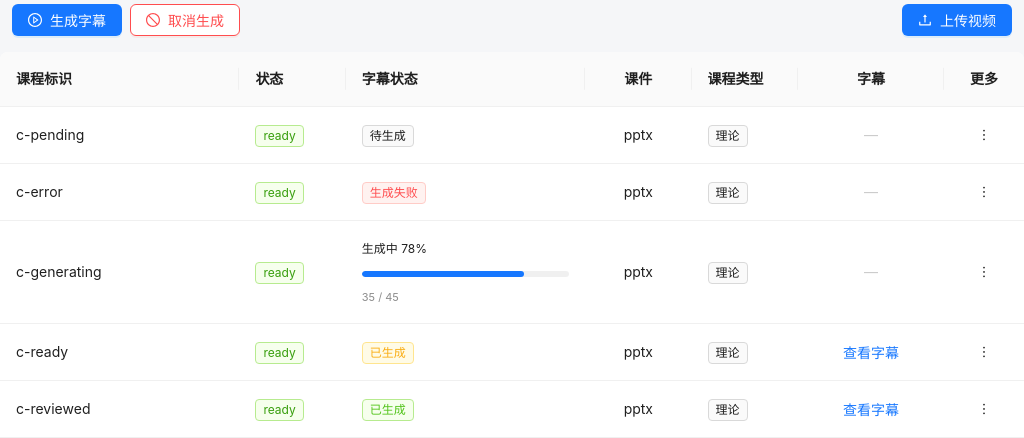
Test: 专栏视频批量操作（PRD v8 §5.5A.5） › 退出选择模式不发 API，并恢复默认工具栏
This screenshot has width=1024, height=438.
Check: the text "c-pending" is shown, box x1=0 y1=107 x2=239 y2=164
Click the button "生成字幕" at (67, 20), box x1=12 y1=4 x2=122 y2=36
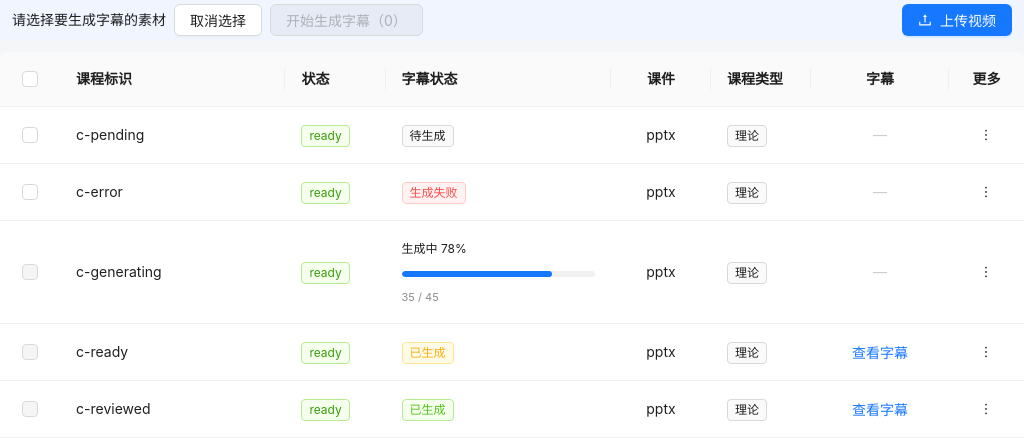
Click the checkbox named "Select all" at (30, 79), box x1=22 y1=68 x2=38 y2=90
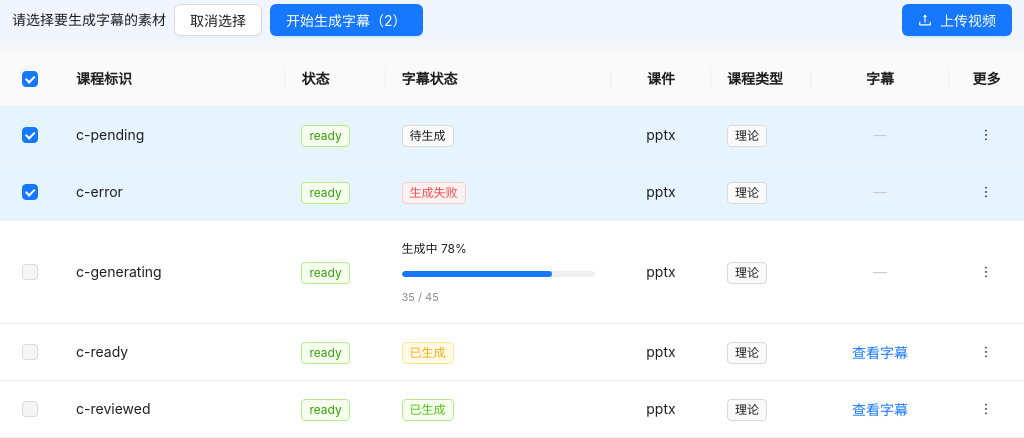
Click the button "取消选择" at (218, 20), box x1=174 y1=4 x2=262 y2=36
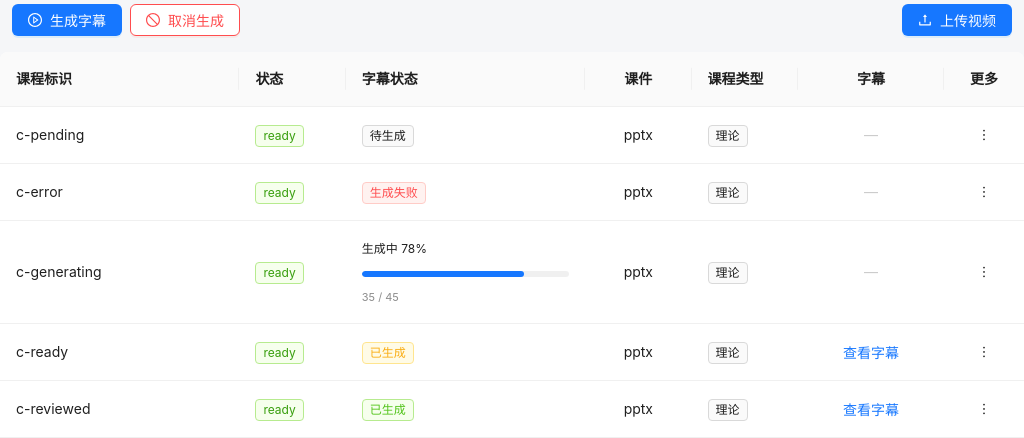
Check: the button "生成字幕" is shown, box x1=12 y1=4 x2=122 y2=36
